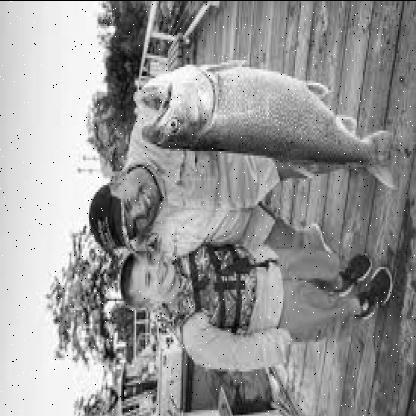fish: (133, 55, 391, 197)
